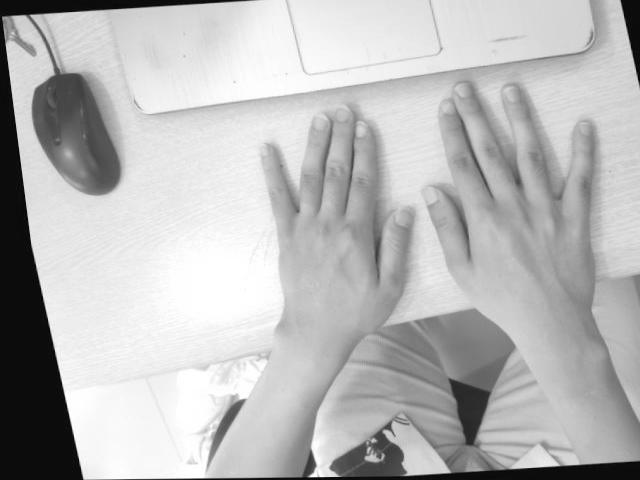not-gloved: (420, 79, 597, 301), (257, 108, 410, 330)
